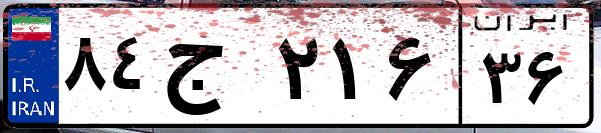1: (330, 28, 385, 110)
2: (270, 28, 330, 110)
3: (475, 38, 525, 113)
4: (110, 28, 158, 98)
6: (385, 28, 445, 110), (525, 38, 570, 115)
8: (57, 26, 110, 100)
ج: (158, 20, 270, 120)
